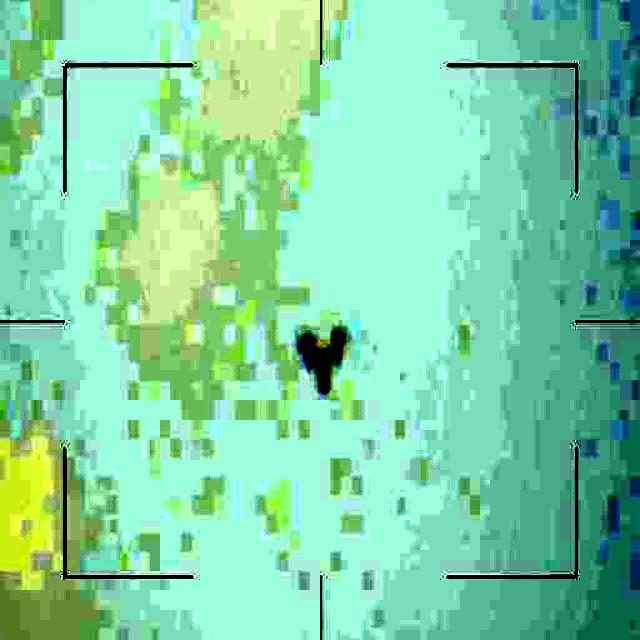bird: (301, 308, 356, 389)
